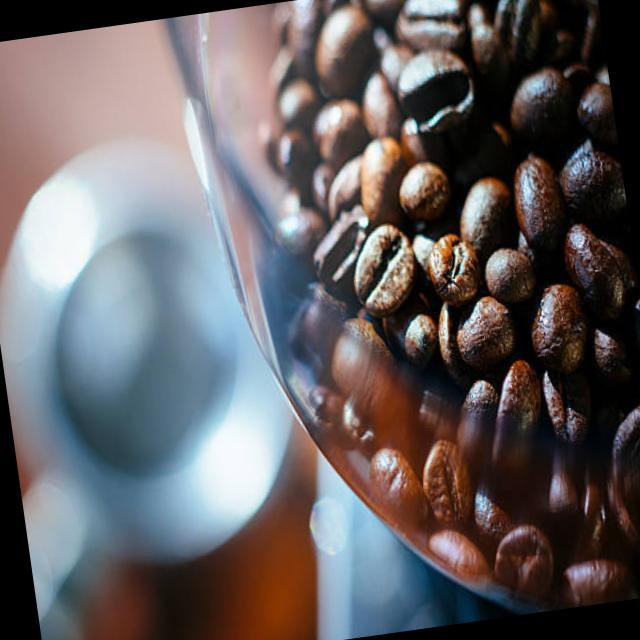paper: (340, 197, 420, 331), (397, 52, 482, 147), (522, 142, 580, 271)
